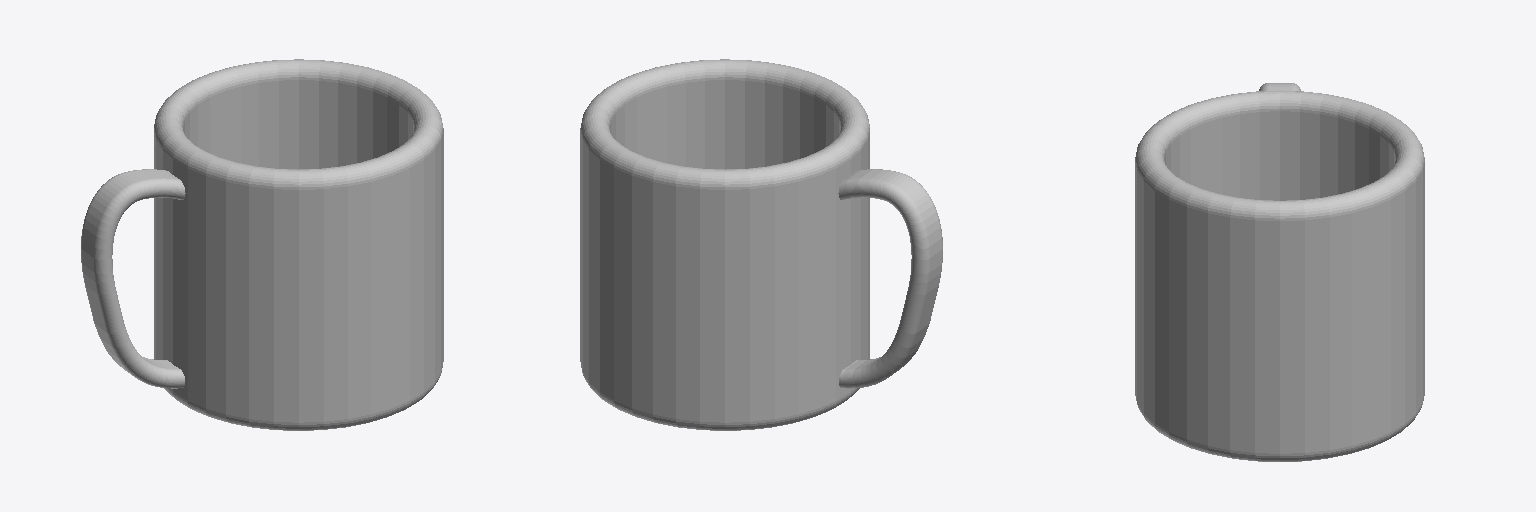
File: Coffee Cup_Correct_WeigthedNormal.obj
The picture shows the model from 3 angles: view 1: azimuth 30°, elevation 25°; view 2: azimuth 150°, elevation 25°; view 3: azimuth 270°, elevation 25°; orthographic projection.
Parts seen in each view (by area): view 1: Bottom; view 2: Bottom; view 3: Bottom.
Part boxes in pixels (x1,y1,x2,y2): Bottom: (81,59,443,430); Bottom: (580,59,942,430); Bottom: (1135,83,1424,461).
Bounding box in the file's own units: 46.85 × 34.57 × 34.96.